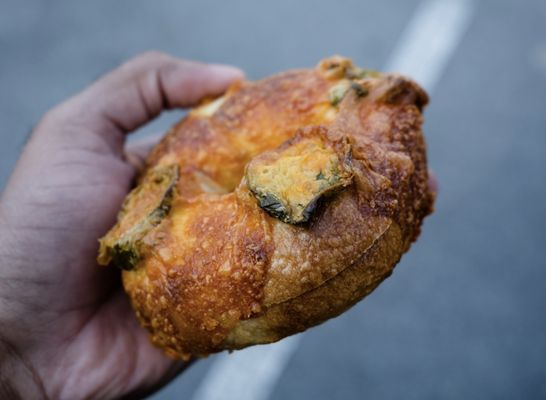salad: (95, 56, 437, 362)
sandwich: (94, 56, 435, 362)
